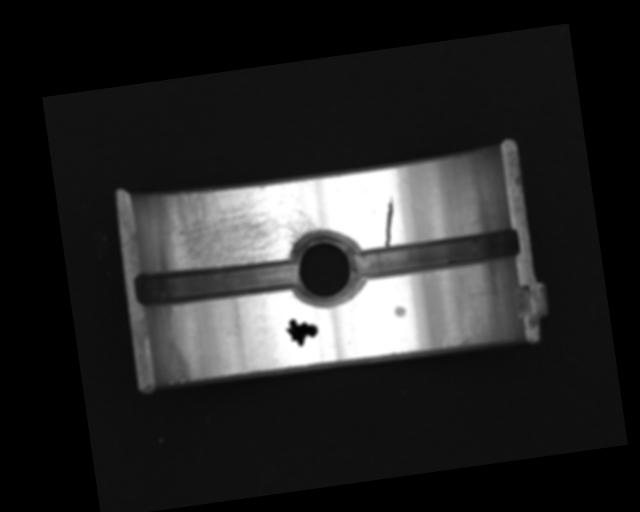blot: (284, 315, 320, 348)
bruise: (392, 304, 407, 318)
gap: (350, 224, 523, 283), (133, 252, 301, 311)
hole: (285, 226, 365, 311)
nick: (378, 194, 401, 247)
scratch: (159, 174, 321, 277)
